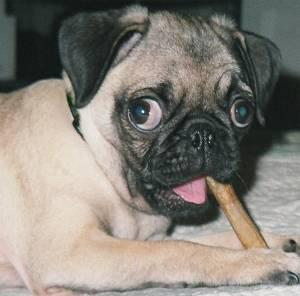dog: (56, 4, 281, 217)
